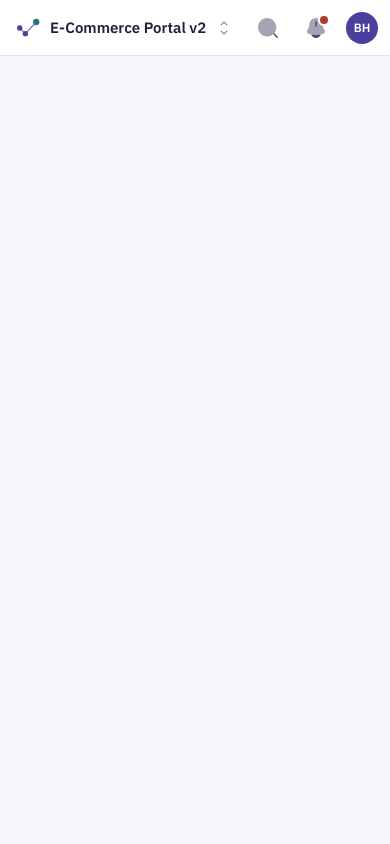
Scenario: PhoneHeader › opens notifications as a sheet
The width and height of the screenshot is (390, 844).
Click the button named "Notifications, 7 unread" at (316, 28), box [294, 6, 338, 50]
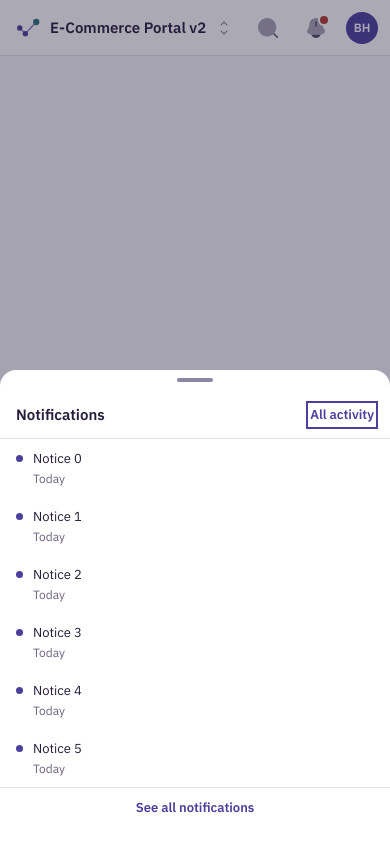
Check: the link "All activity" is shown, box [310, 405, 374, 425]
